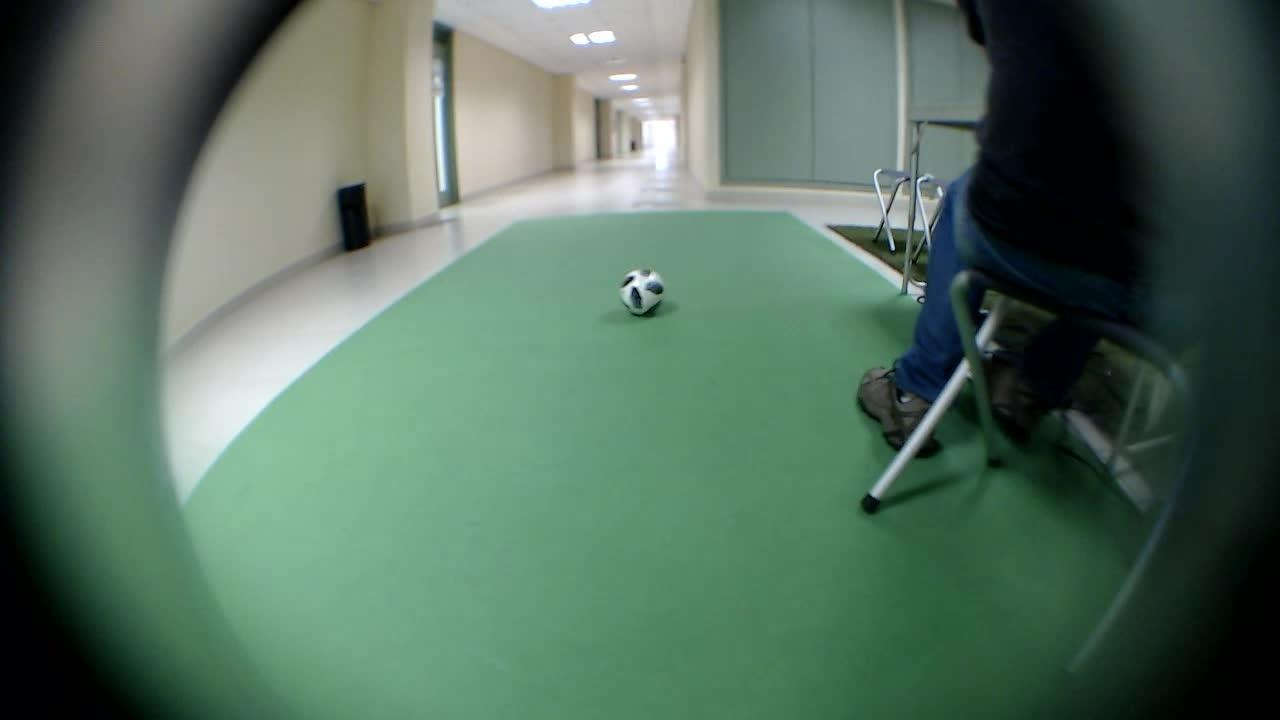ball: (607, 253, 678, 323)
